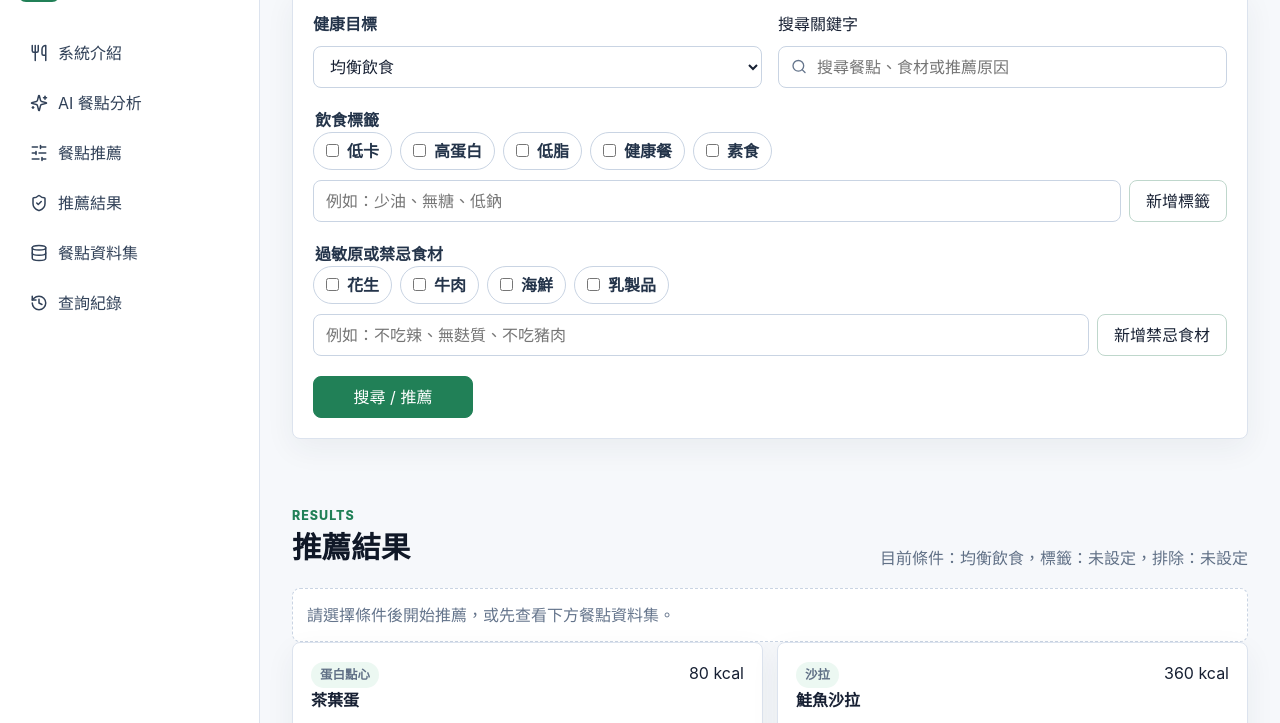
it: App › sends selected custom avoid ingredients to AI analysis requests
(page scrolled)
Type "不吃辣" into the field named "自訂禁忌食材" at (701, 335), box [313,314,1089,356]
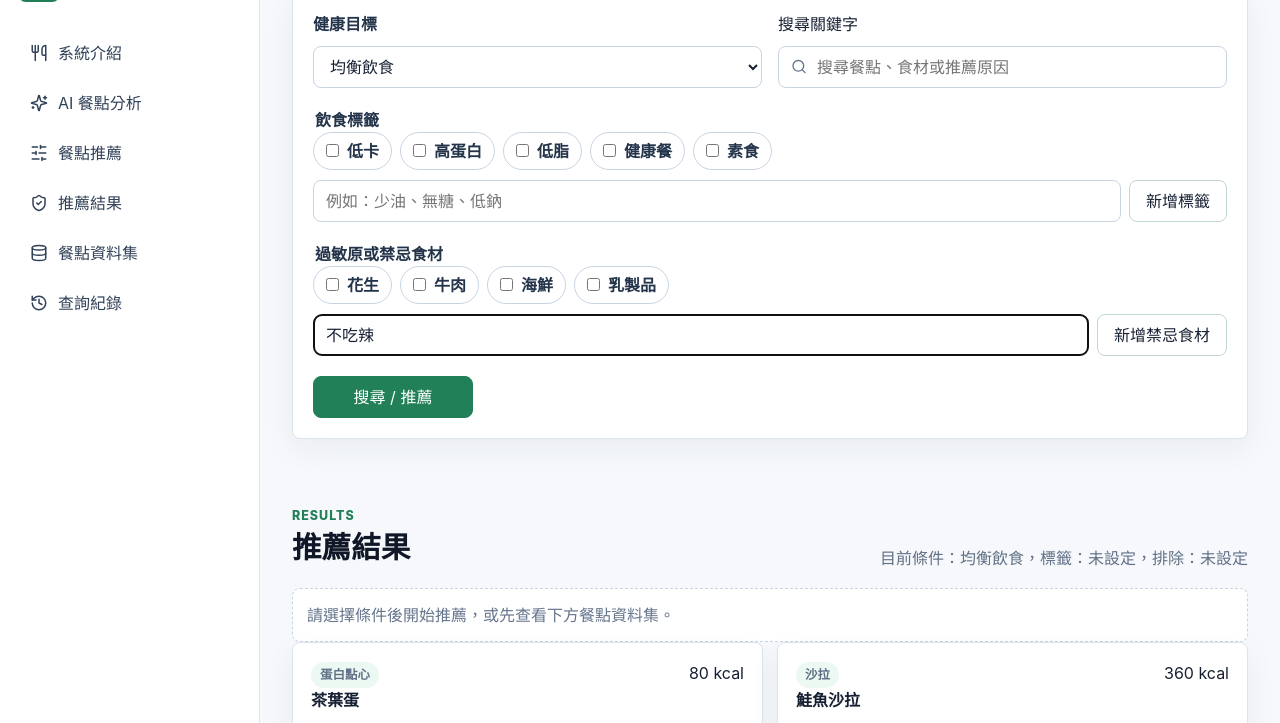
Click the button "新增禁忌食材" at (1162, 335), box [1097,314,1227,356]
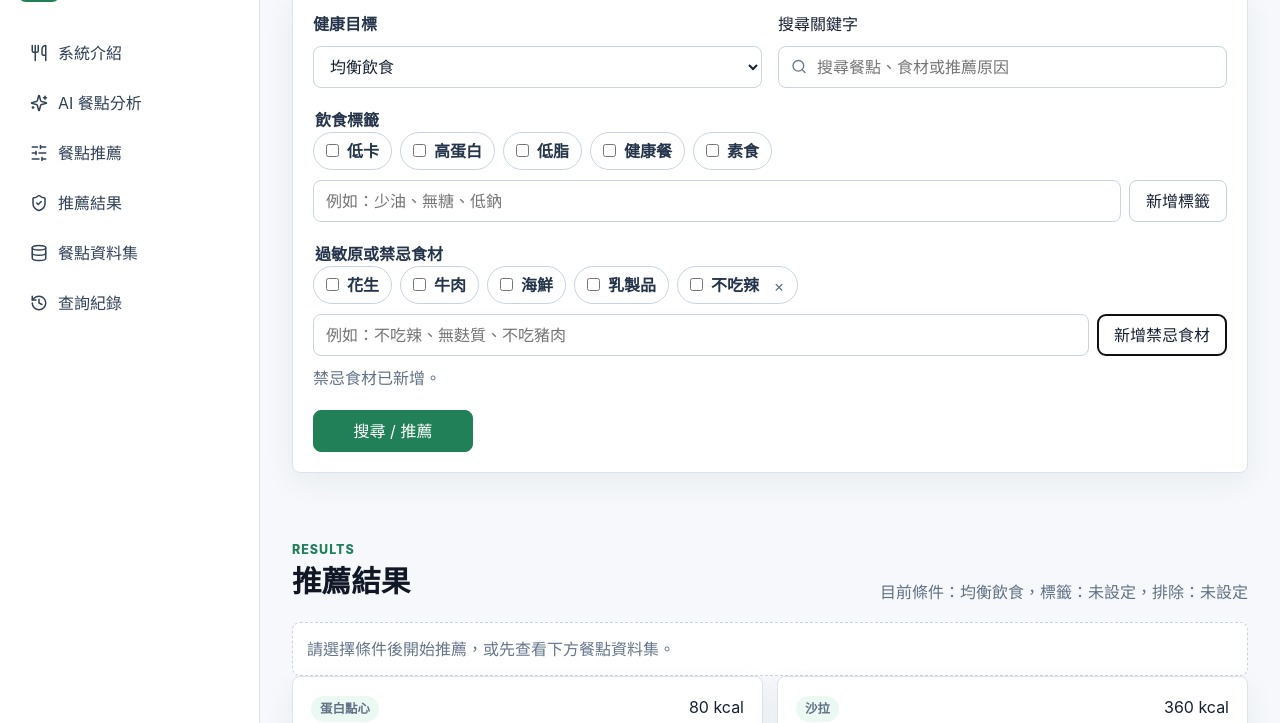
Click the checkbox labelled "不吃辣" at (697, 285), box [690,278,703,291]
(page scrolled)
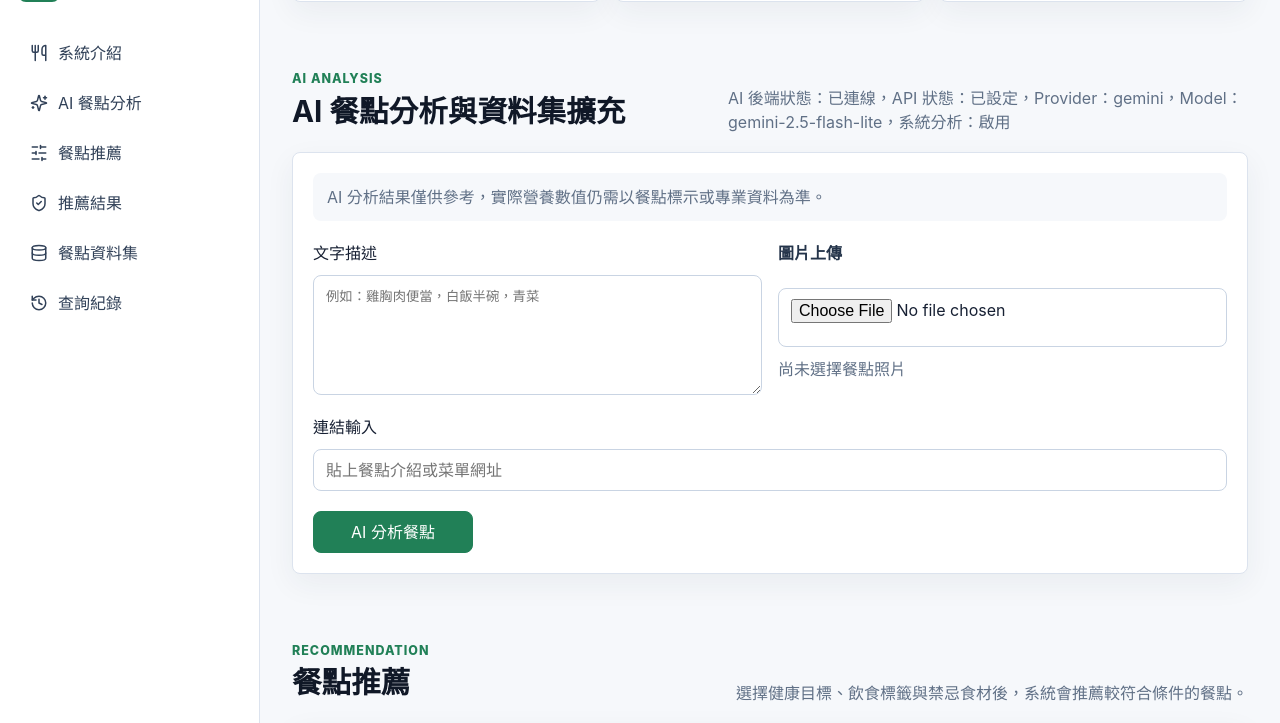
Type "麻辣豆腐" into the text box labelled "文字描述" at (538, 334), box [313,274,762,394]
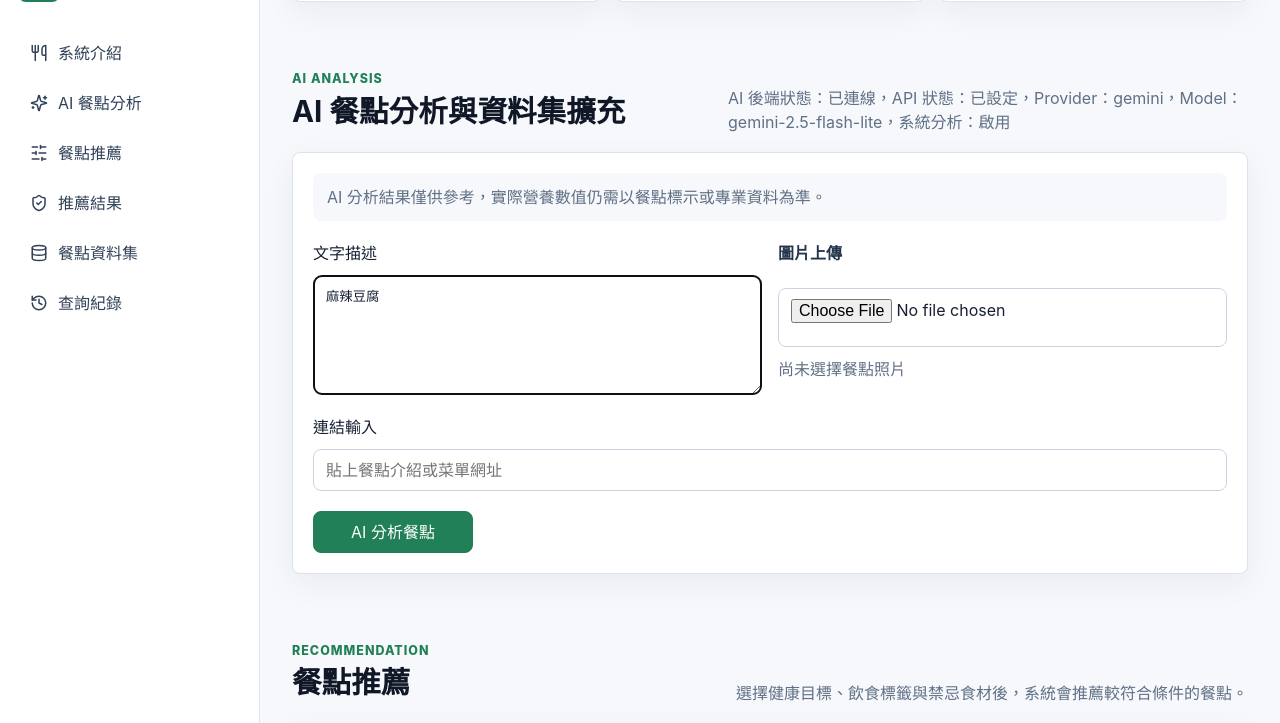
Click the button "AI 分析餐點" at (393, 532), box [313,510,473,552]
(page scrolled)
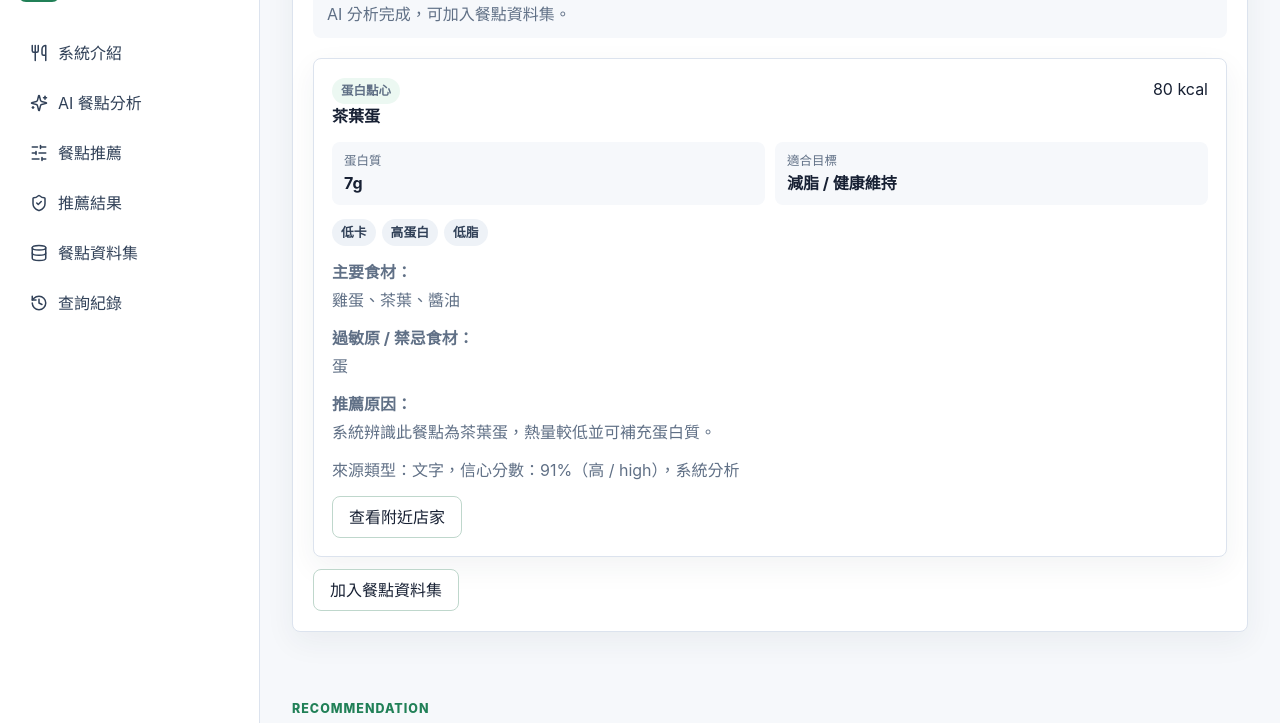
Check: the element named "AI 分析結果" is shown, box [313,58,1227,611]
